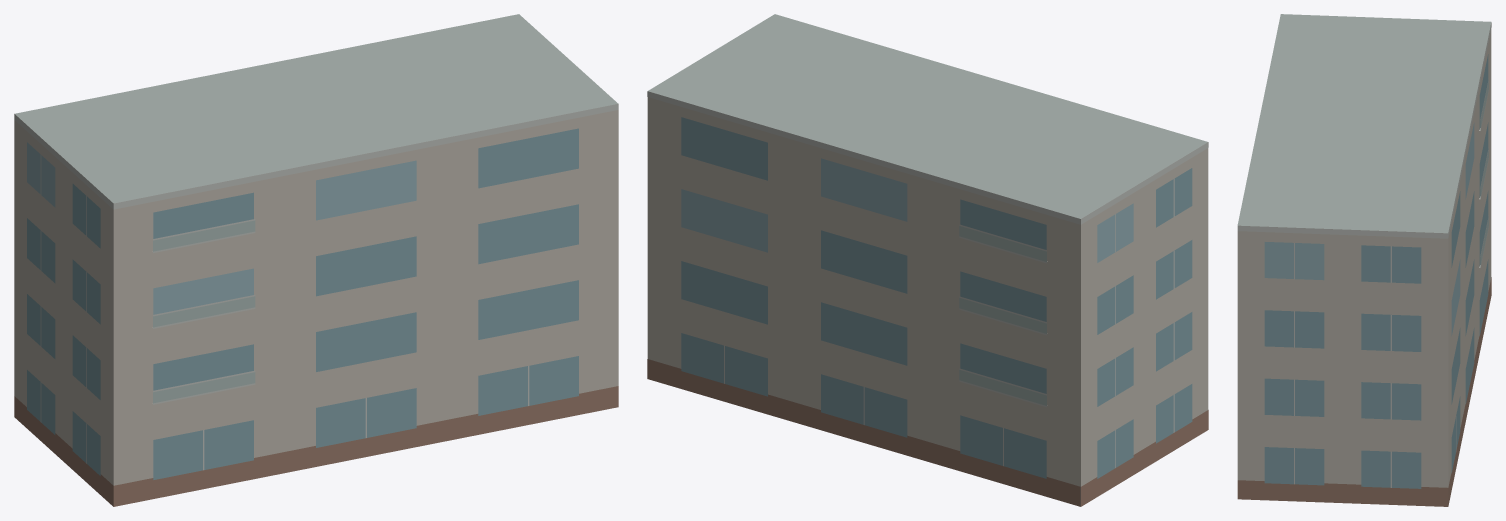
File: residential-bf3bc580-9491-408d-9f73-df42b2b0d54e.glb
3 renders of one model, left to right at view 1: azimuth 30°, elevation 25°; view 2: azimuth 150°, elevation 25°; view 3: azimuth 270°, elevation 25°, orthographic. The views are drawn at different scales.
Parts seen in each view (by area): view 1: residential-bf3bc580-9491-408d-9f73-df42b2b0d54e.tmp; view 2: residential-bf3bc580-9491-408d-9f73-df42b2b0d54e.tmp; view 3: residential-bf3bc580-9491-408d-9f73-df42b2b0d54e.tmp.
Part boxes in pixels (x1=…): residential-bf3bc580-9491-408d-9f73-df42b2b0d54e.tmp: x1=14, y1=14, x2=618, y2=506; residential-bf3bc580-9491-408d-9f73-df42b2b0d54e.tmp: x1=647, y1=14, x2=1208, y2=506; residential-bf3bc580-9491-408d-9f73-df42b2b0d54e.tmp: x1=1237, y1=14, x2=1491, y2=506.
Size of the model in its own units: 20.98 by 12.2 by 10.28.
